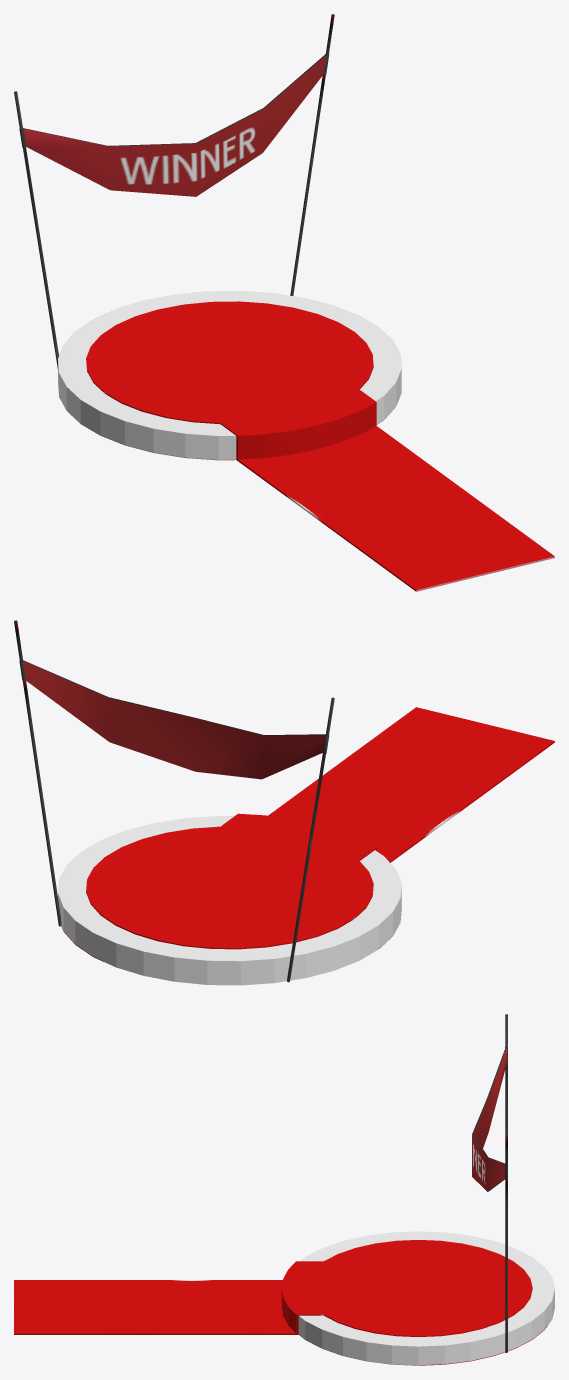
The model's file is WINNER STAGE.fbx.
3 renders of one model, top to bottom at view 1: azimuth 30°, elevation 25°; view 2: azimuth 150°, elevation 25°; view 3: azimuth 270°, elevation 25°, orthographic. The views are drawn at different scales.
Parts seen in each view (by area): view 1: Cylinder.002; view 2: Cylinder.002; view 3: Cylinder.002.
Part boxes in pixels (x1,y1,x2,y2): Cylinder.002: (14, 14, 554, 591); Cylinder.002: (14, 620, 554, 985); Cylinder.002: (14, 1014, 554, 1365).
Bounding box in the file's own units: 215 × 189 × 397.
